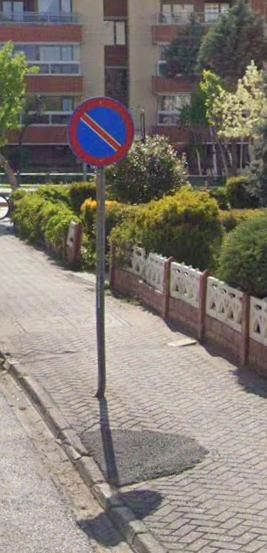nopark: (75, 101, 134, 165)
